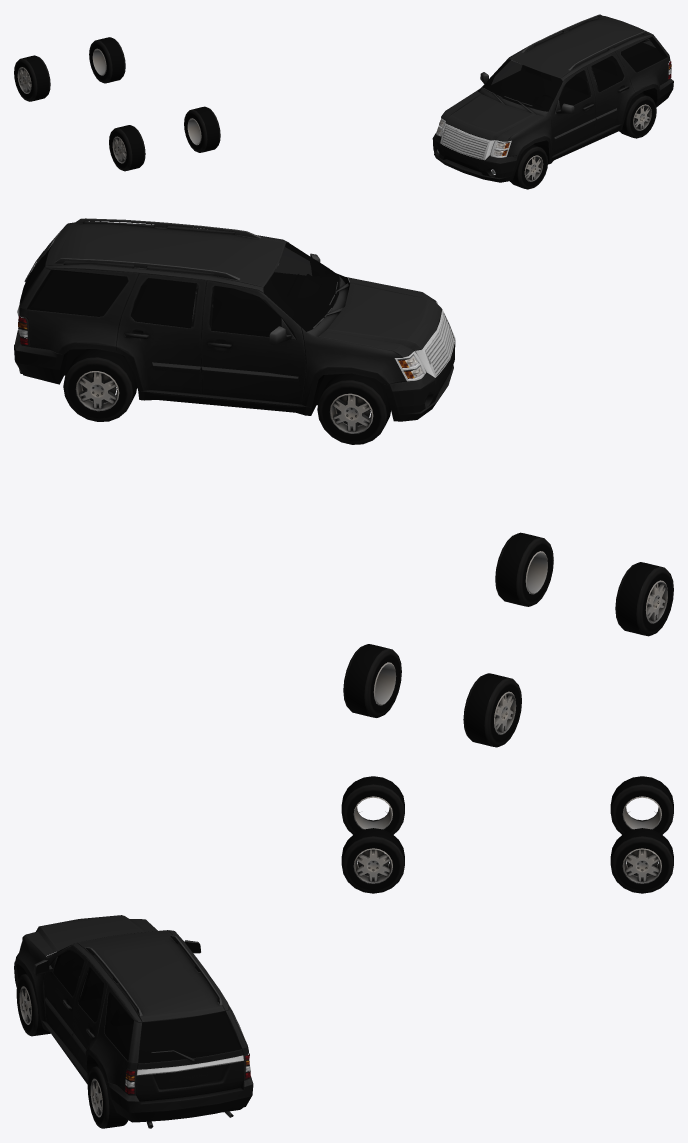
File: generico-suv.glb
The picture shows the model from 3 angles, top to bottom: view 1: azimuth 30°, elevation 25°; view 2: azimuth 150°, elevation 25°; view 3: azimuth 270°, elevation 25°; orthographic projection. The views are drawn at different scales.
Parts seen in each view (by area): view 1: SUV Body, Wheel_E001 (×2), Wheel_E (×2), Wheel_E002, Wheel_E003; view 2: SUV Body, Wheel_E003 (×2), Wheel_E002 (×2), Wheel_E, Wheel_E001; view 3: SUV Body, Wheel_E001 (×2), Wheel_E (×2), Wheel_E002, Wheel_E003.
Part boxes in pixels (box(x1,y1,x2,y2)): SUV Body: box(432, 14, 673, 182); Wheel_E001 (×2): box(89, 37, 656, 138); Wheel_E (×2): box(184, 106, 547, 189); Wheel_E002: box(109, 125, 145, 171); Wheel_E003: box(14, 55, 50, 101); SUV Body: box(14, 218, 455, 421); Wheel_E003 (×2): box(63, 349, 521, 747); Wheel_E002 (×2): box(317, 373, 673, 636); Wheel_E: box(495, 532, 553, 606); Wheel_E001: box(343, 644, 401, 717); SUV Body: box(14, 915, 253, 1128); Wheel_E001 (×2): box(87, 828, 673, 1128); Wheel_E (×2): box(16, 828, 404, 1036); Wheel_E002: box(341, 776, 404, 834); Wheel_E003: box(610, 776, 673, 834).
Size of the model in its own units: 9.1 by 1.73 by 7.84.
Materials: 4 (3 with a texture image).
